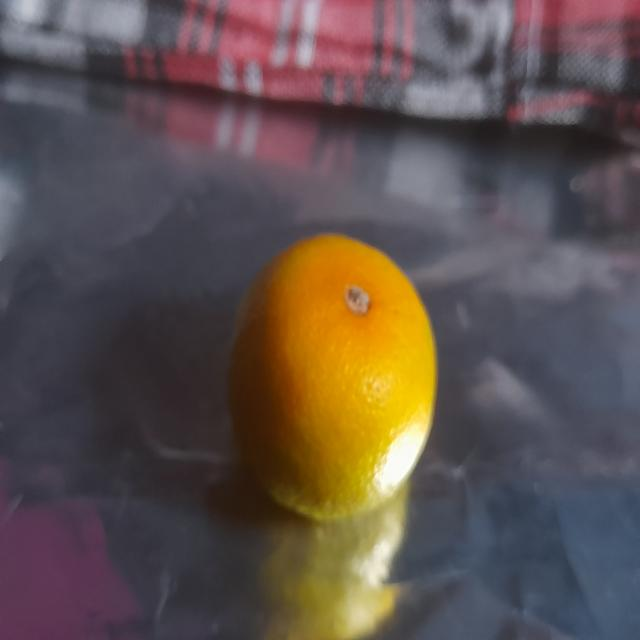greening: (223, 224, 445, 532)
